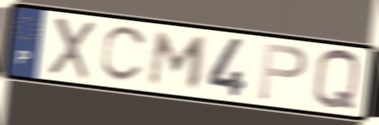4: (206, 36, 252, 100)
C: (98, 25, 151, 85)
M: (145, 29, 211, 91)
P: (256, 40, 310, 103)
Q: (310, 47, 363, 114)
X: (46, 14, 97, 82)
